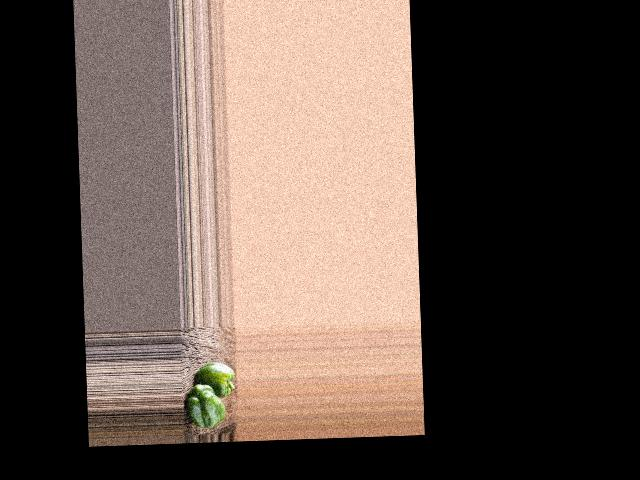bell_pepper: (187, 381, 226, 428)
